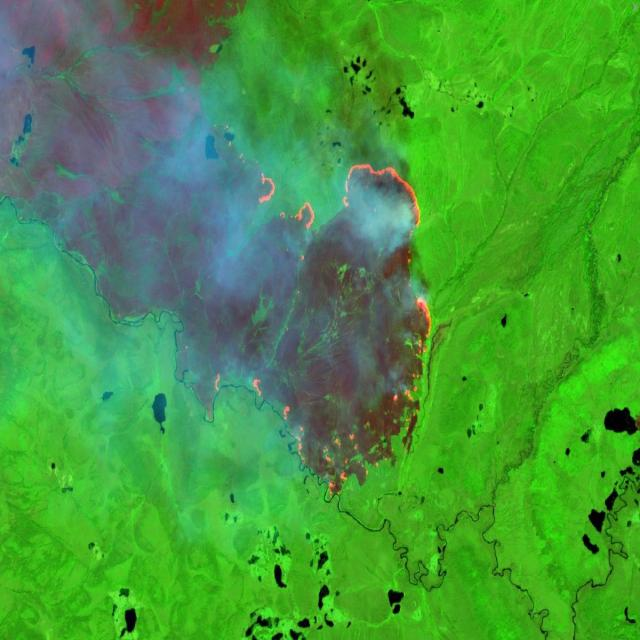fire: (212, 292, 435, 495), (258, 158, 424, 262)
